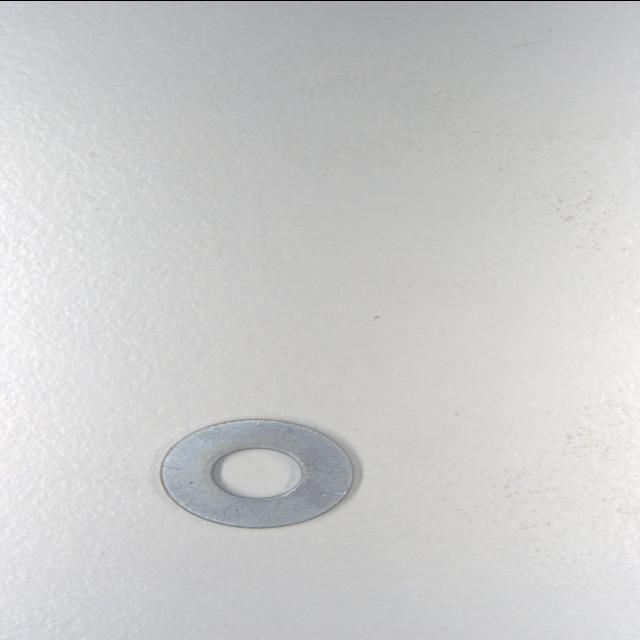washer: (156, 416, 356, 528)
